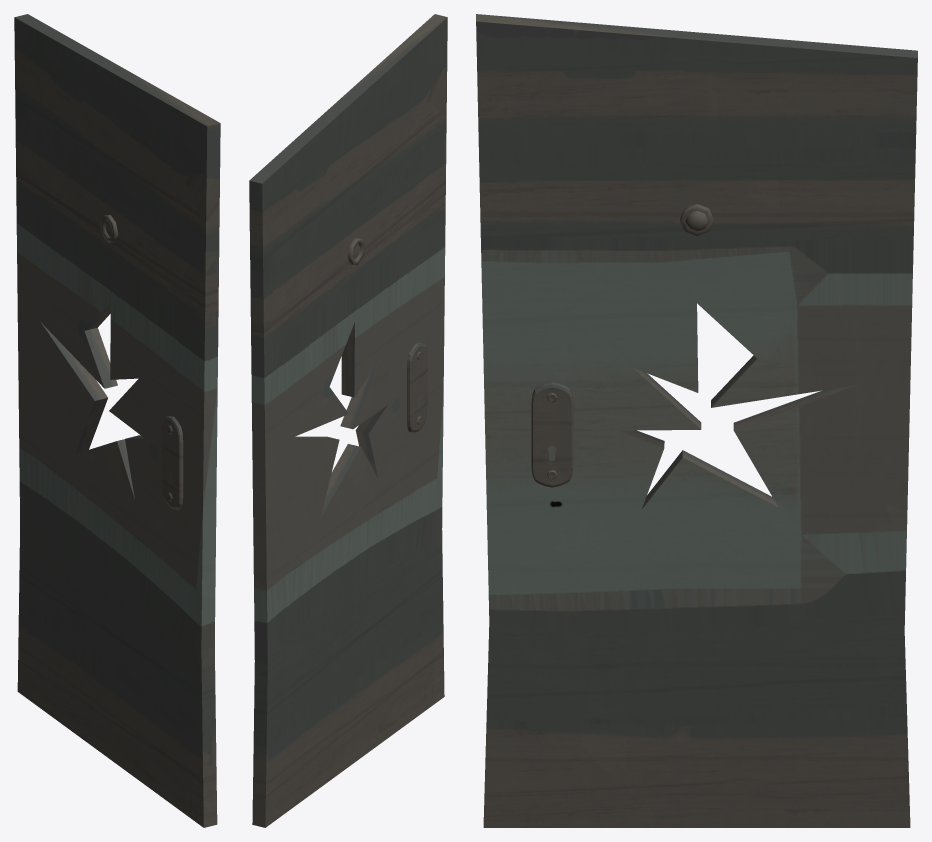
File: BrokenDoor.fbx
3 renders of one model, left to right at view 1: azimuth 30°, elevation 25°; view 2: azimuth 150°, elevation 25°; view 3: azimuth 270°, elevation 25°, orthographic. The views are drawn at different scales.
Parts seen in each view (by area): view 1: F_Broken_door_01; view 2: F_Broken_door_01; view 3: F_Broken_door_01.
Boxes of the visible parts, x1,y1,x2,y2 form: F_Broken_door_01: [14, 14, 220, 827]; F_Broken_door_01: [249, 14, 447, 827]; F_Broken_door_01: [476, 14, 917, 827].
Bounding box in the file's own units: 8.53 × 220 × 109.
